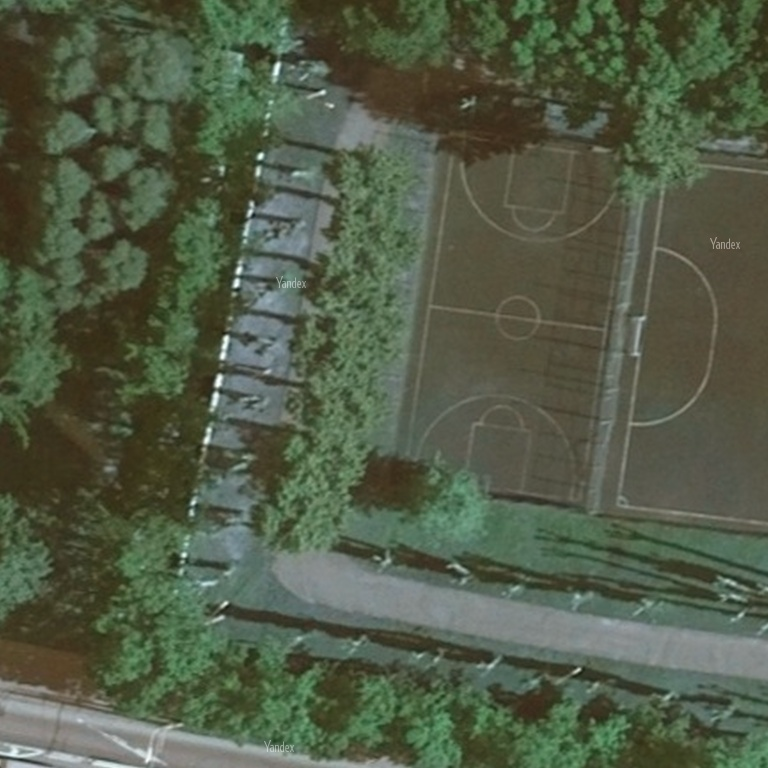basket_court: (382, 119, 647, 525)
